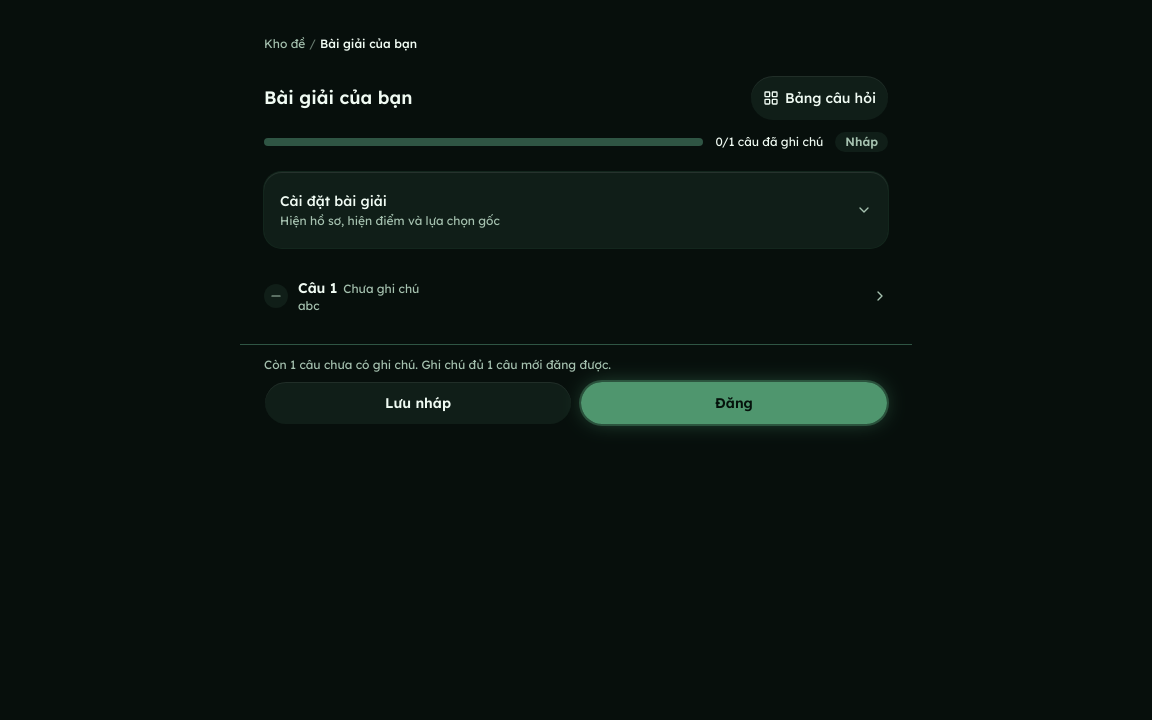
SolutionEditorScreen — NoteSheet, rateLimited (Required Test #3, AC-101) › hiện profile.error.rateLimited chứa '42', chữ được giữ
Click the button with aria-label "Câu 1," at coordinates (318, 288), box [264,268,888,324]
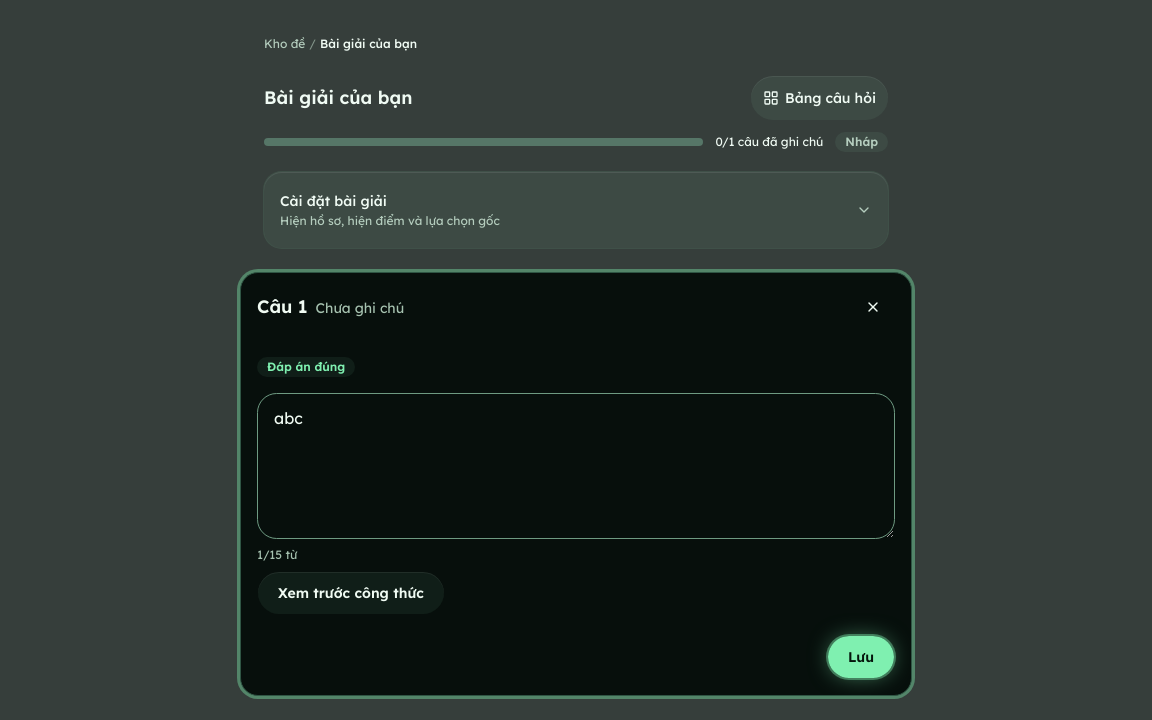
Click the button "Lưu" at coordinates (861, 657), box [827,635,895,679]
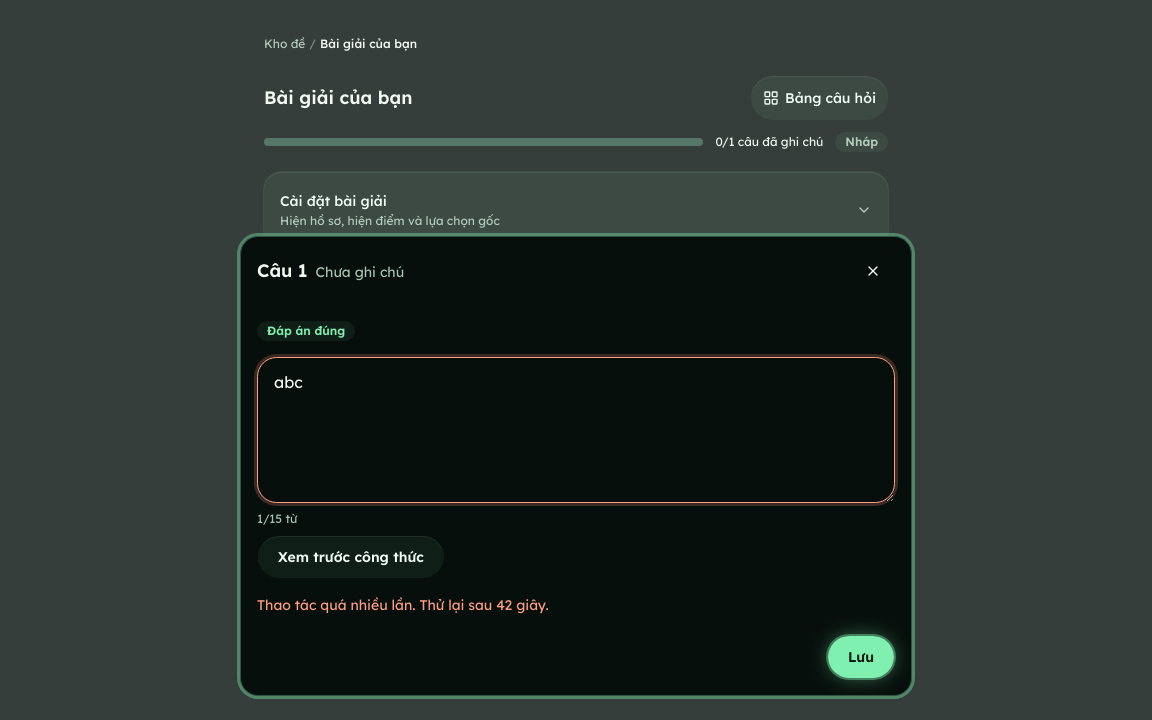
Result: the text box holds "abc" at [257,357,895,503]
Result: the message reads "Thao tác quá nhiều lần. Thử lại sau 42 giây." at [257,596,549,614]
